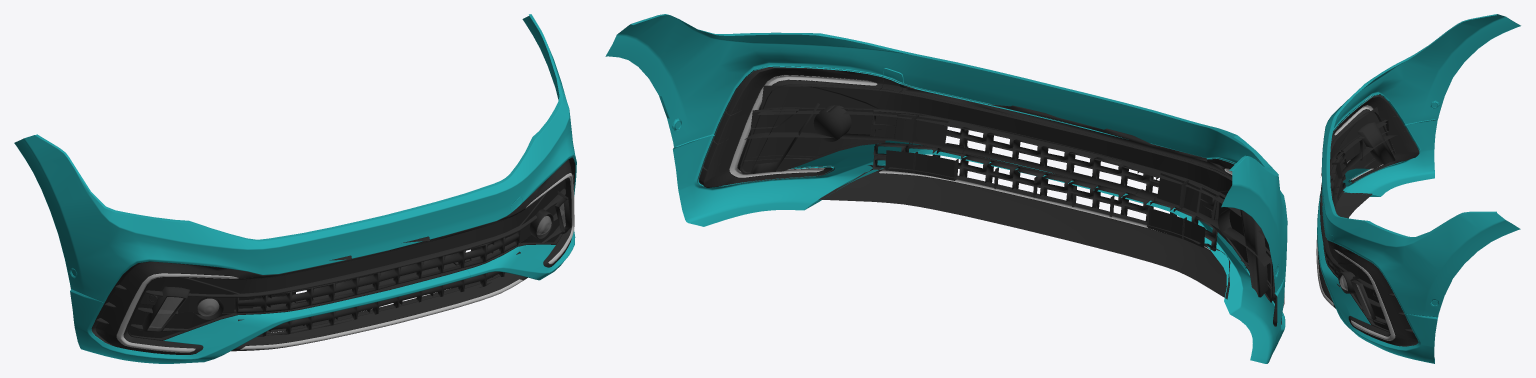
3 renders of one model, left to right at view 1: azimuth 30°, elevation 25°; view 2: azimuth 150°, elevation 25°; view 3: azimuth 270°, elevation 25°, orthographic. The views are drawn at different scales.
Visible parts, largest first — view 1: front bumper 5; view 2: front bumper 5; view 3: front bumper 5.
Part boxes in pixels (box(x1,y1,x2,y2)): front bumper 5: box(14, 14, 576, 363); front bumper 5: box(605, 14, 1287, 363); front bumper 5: box(1316, 14, 1520, 363).
Size of the model in its own units: 1.89 by 0.6723 by 0.8057.
